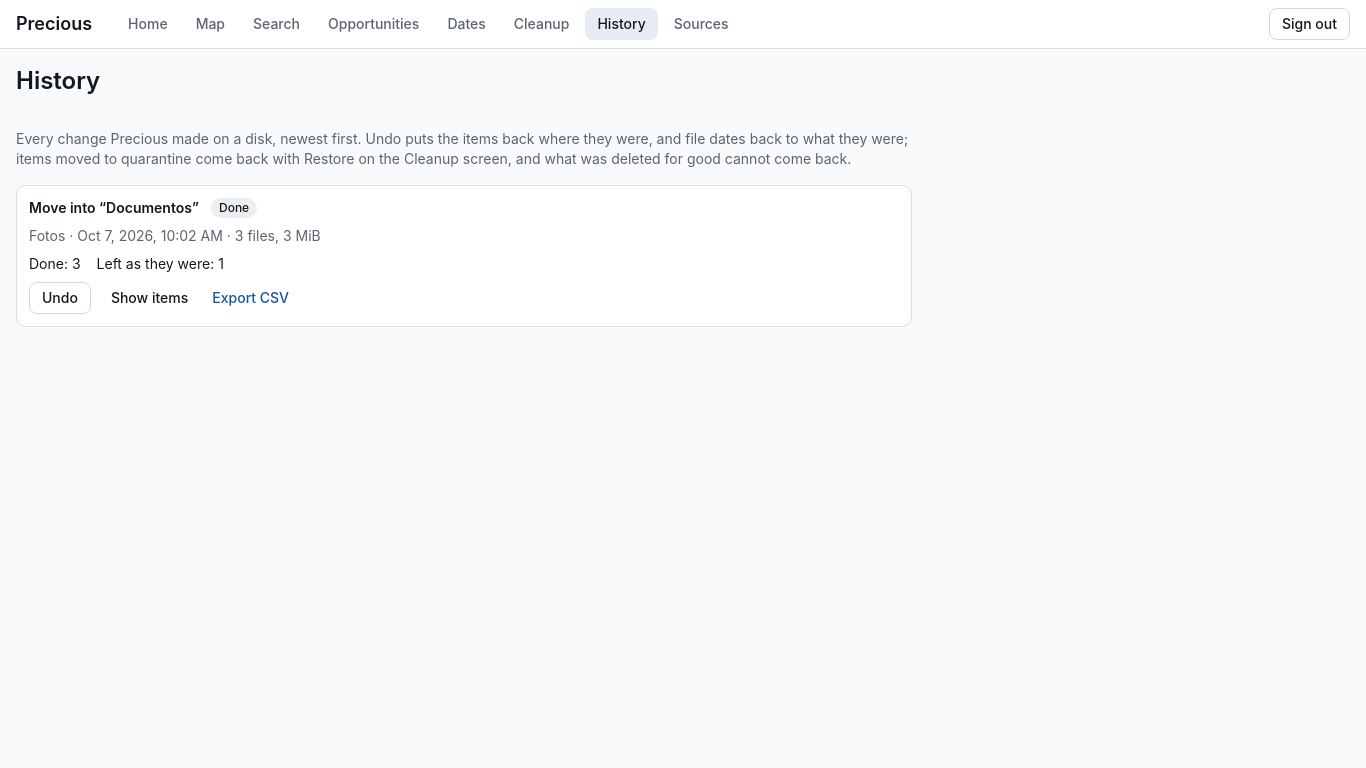
Test case: History › asks for a destination when an undo has conflicts
expect the element "Move into “Documentos”" is shown: met, box [16, 185, 912, 327]
Click the button "Undo" at point(60, 298), box [29, 282, 91, 314]
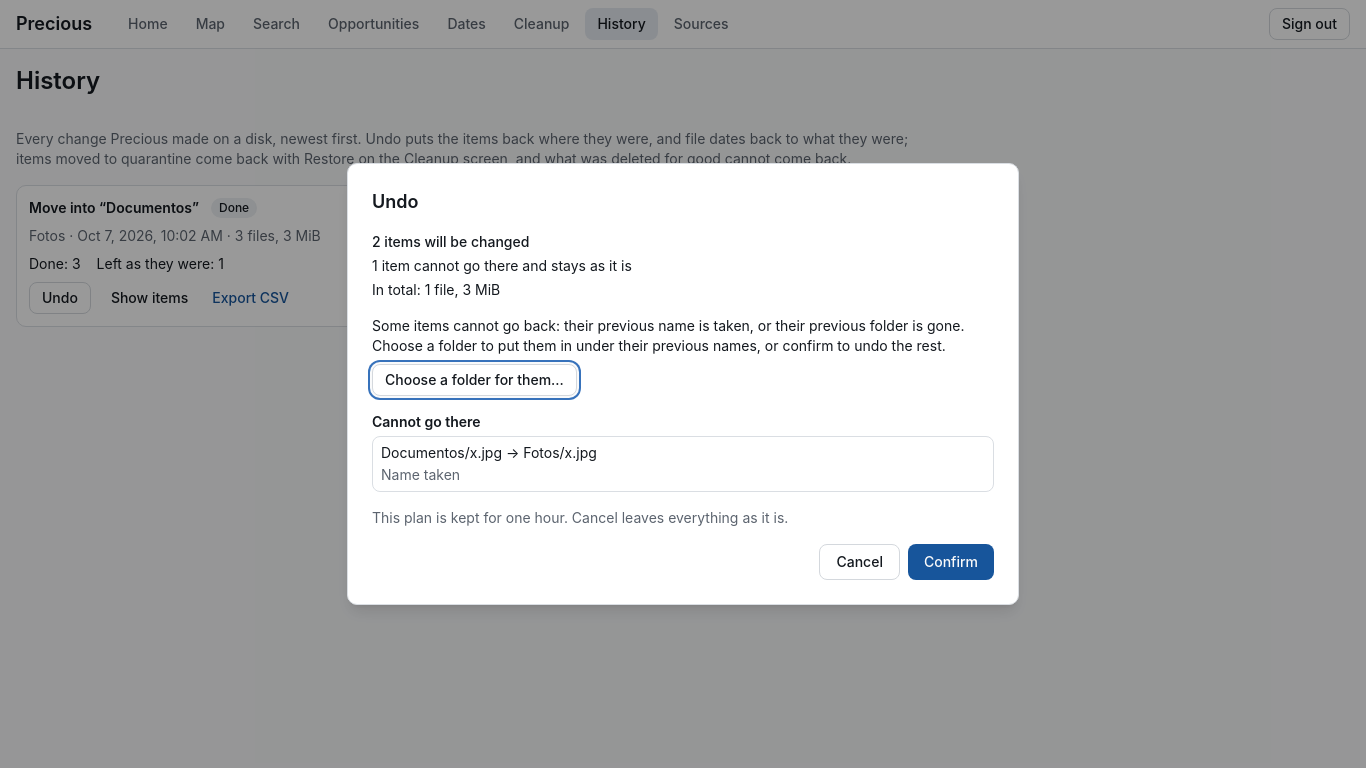
expect the text "Documentos/x.jpg → Fotos/x.jpg" is shown: met, box [381, 444, 597, 461]
Click the button "Choose a folder for them…" at point(474, 380), box [372, 364, 577, 396]
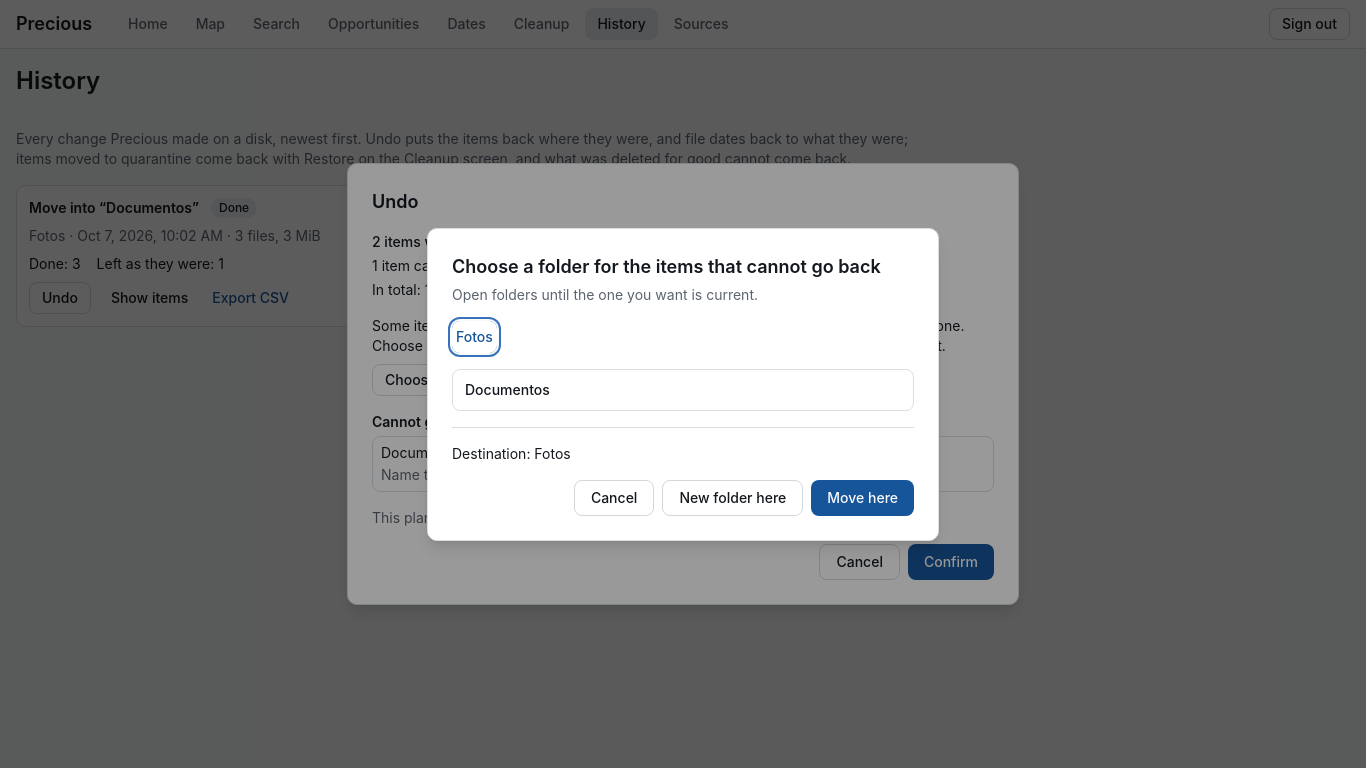
Click the button "Documentos" at point(507, 389), box [457, 374, 909, 406]
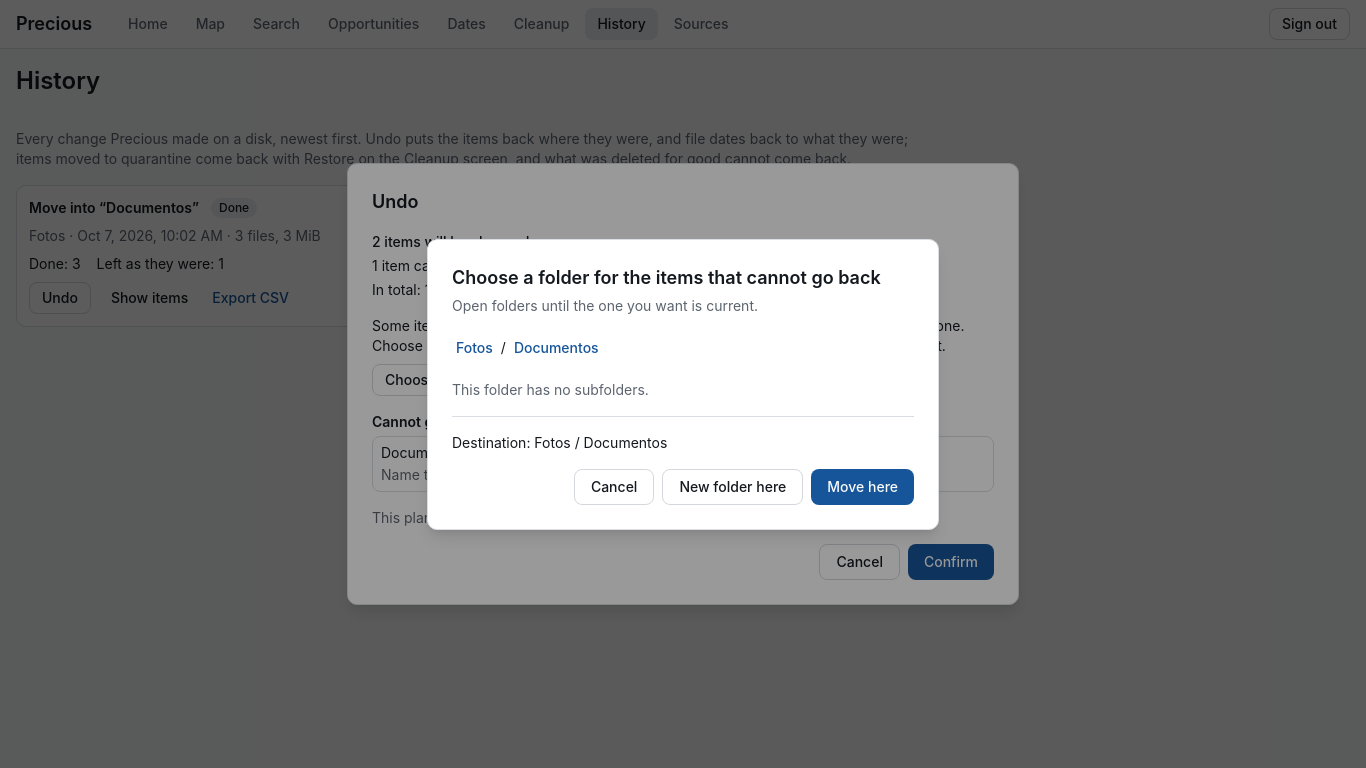
Click the button "Move here" at point(863, 486), box [811, 468, 914, 504]
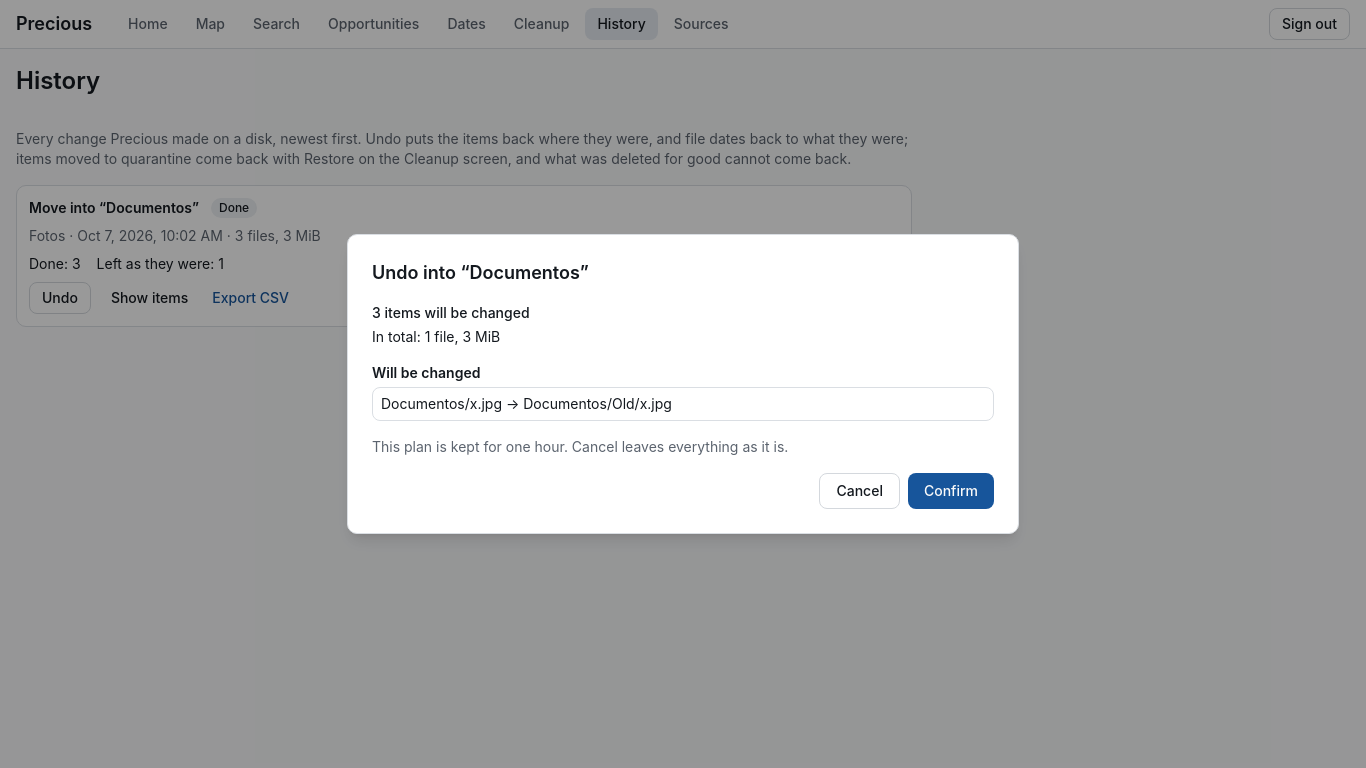
expect the dialog "Undo into “Documentos”" is shown: met, box [347, 234, 1019, 534]
